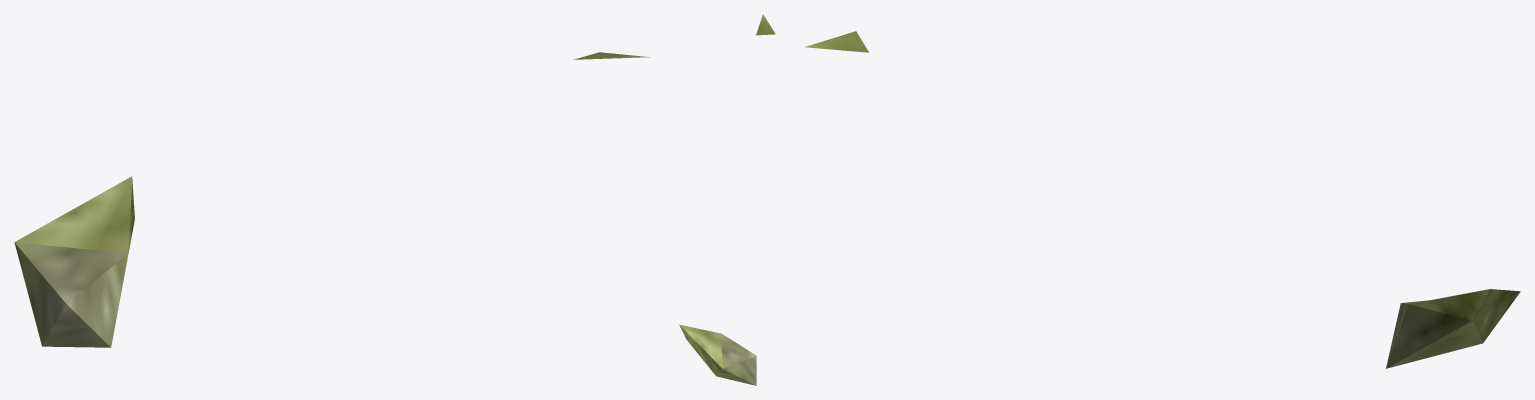
3 renders of one model, left to right at view 1: azimuth 30°, elevation 25°; view 2: azimuth 150°, elevation 25°; view 3: azimuth 270°, elevation 25°, orthographic. The views are drawn at different scales.
Bounding box in the file's own units: 0.2631 × 0.3746 × 0.5481.
1 material, 1 textured.
